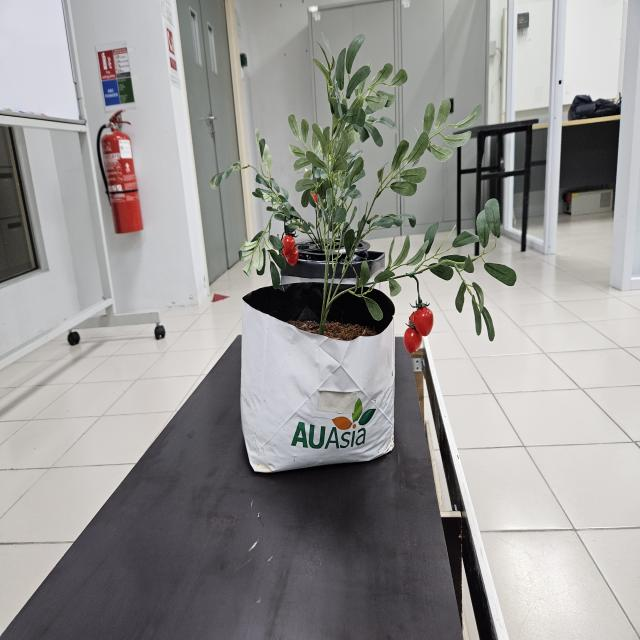Soilbag: (239, 288, 400, 475)
Tomato: (401, 300, 435, 358), (282, 234, 299, 266)
plant: (237, 35, 517, 356)
